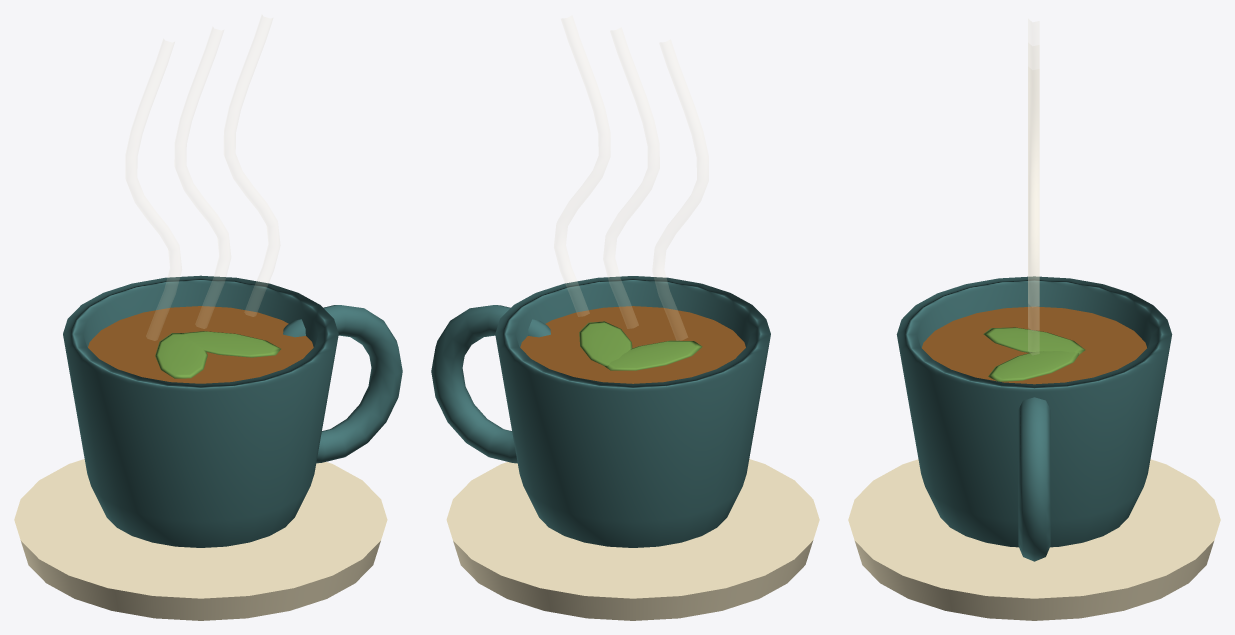
The model's file is tea-cup.glb.
3 views of the same model, side by side, from view 1: azimuth 30°, elevation 25°; view 2: azimuth 150°, elevation 25°; view 3: azimuth 270°, elevation 25° (orthographic).
Parts seen in each view (by area): view 1: object 2, object 1, Liquid, object 5, Steam2, Steam1, Steam0, MintLeaves; view 2: object 2, object 1, Liquid, object 5, Steam0, Steam1, Steam2, MintLeaves; view 3: object 2, object 1, Liquid, object 5, MintLeaves, Steam2.
Part boxes in pixels (<box>): object 2: <box>63,275,338,547</box>; object 1: <box>14,459,387,620</box>; Liquid: <box>88,306,313,383</box>; object 5: <box>283,305,402,463</box>; Steam2: <box>224,15,279,316</box>; Steam1: <box>175,28,230,328</box>; Steam0: <box>126,39,181,340</box>; MintLeaves: <box>155,331,280,378</box>; object 2: <box>495,276,770,547</box>; object 1: <box>446,459,819,620</box>; Liquid: <box>520,306,745,383</box>; object 5: <box>431,305,550,463</box>; Steam0: <box>653,40,708,340</box>; Steam1: <box>603,28,659,328</box>; Steam2: <box>554,16,609,316</box>; MintLeaves: <box>579,321,702,370</box>; object 2: <box>896,276,1172,547</box>; object 1: <box>848,459,1220,620</box>; Liquid: <box>922,306,1146,384</box>; object 5: <box>1018,397,1050,561</box>; MintLeaves: <box>983,327,1085,381</box>; Steam2: <box>1028,67,1038,354</box>.
Bounding box in the file's own units: 0.515 × 0.6998 × 0.46.
